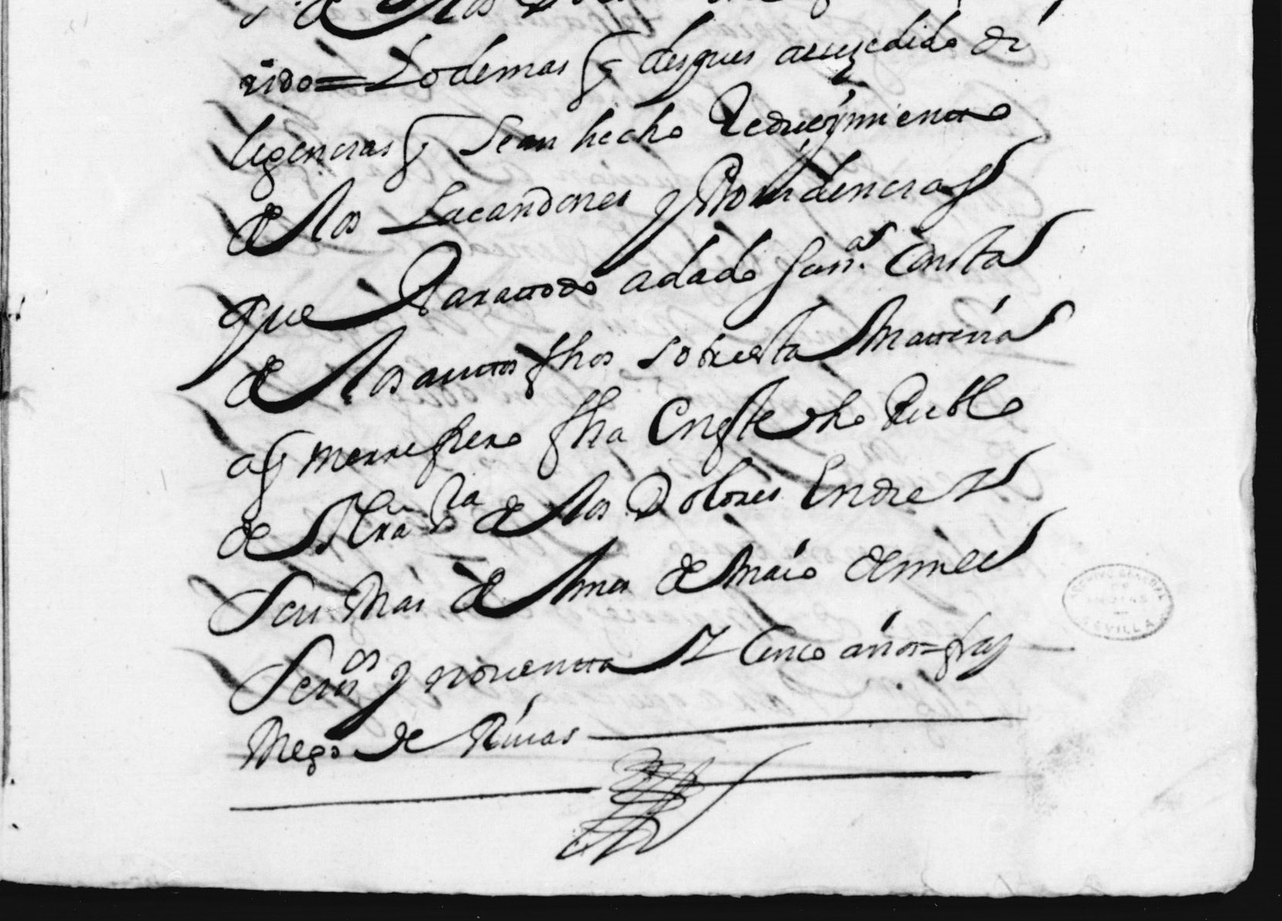lacandon: (377, 180, 631, 234)
